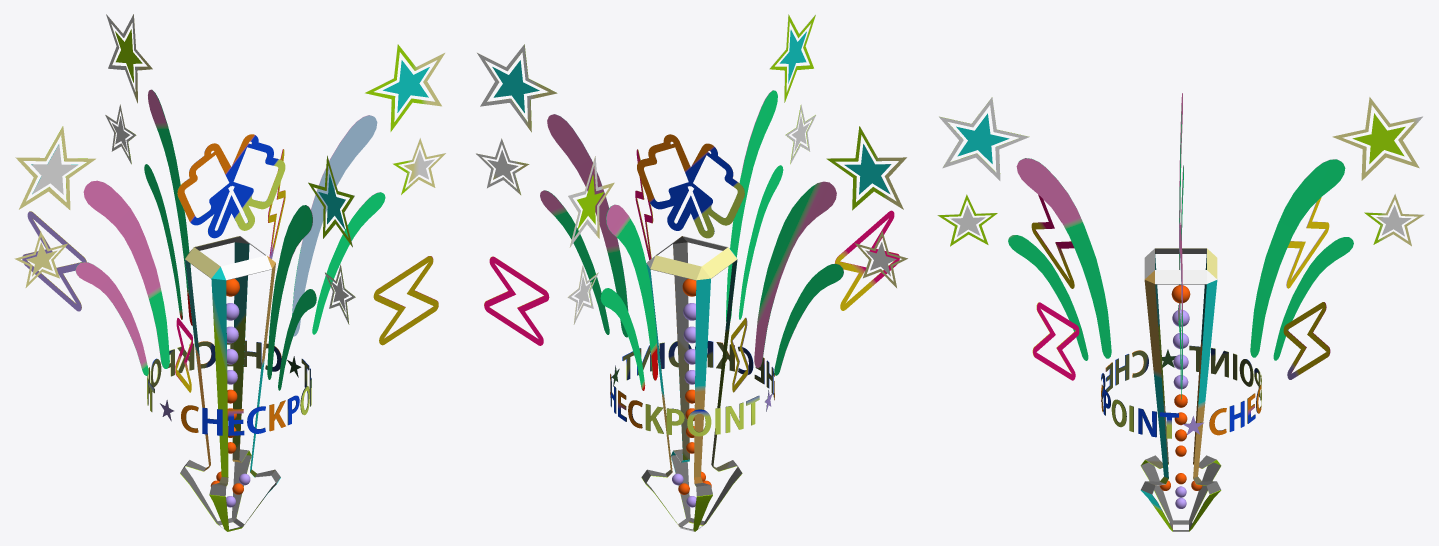
File: Holo Checkpoint.fbx
The picture shows the model from 3 angles, left to right: view 1: azimuth 30°, elevation 25°; view 2: azimuth 150°, elevation 25°; view 3: azimuth 270°, elevation 25°; orthographic projection. The views are drawn at different scales.
Parts seen in each view (by area): view 1: polySurface14, polySurface3; view 2: polySurface14, polySurface3; view 3: polySurface14, polySurface3.
Boxes of the visible parts, box(x1,y1,x2,y2) form: polySurface14: box(14, 14, 445, 531); polySurface3: box(147, 236, 311, 529); polySurface14: box(476, 14, 907, 531); polySurface3: box(610, 236, 774, 529); polySurface14: box(937, 93, 1424, 531); polySurface3: box(1101, 248, 1261, 530).
Bounding box in the file's own units: 18.8 × 18.39 × 18.8.
